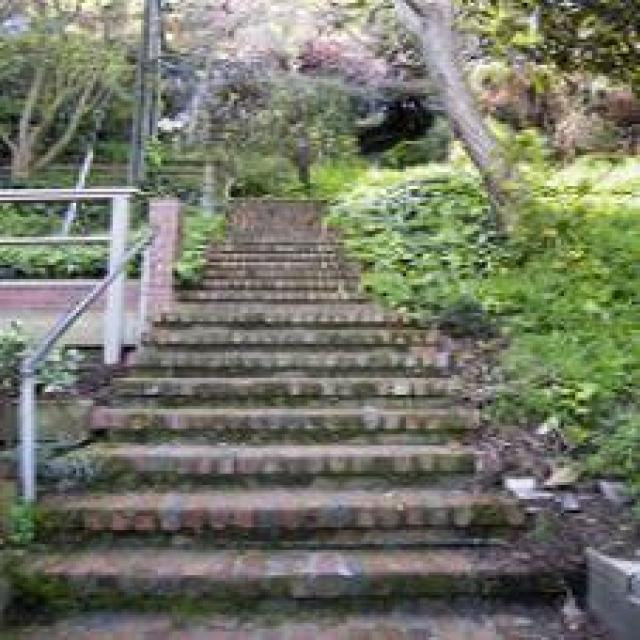upstair: (74, 283, 523, 587)
